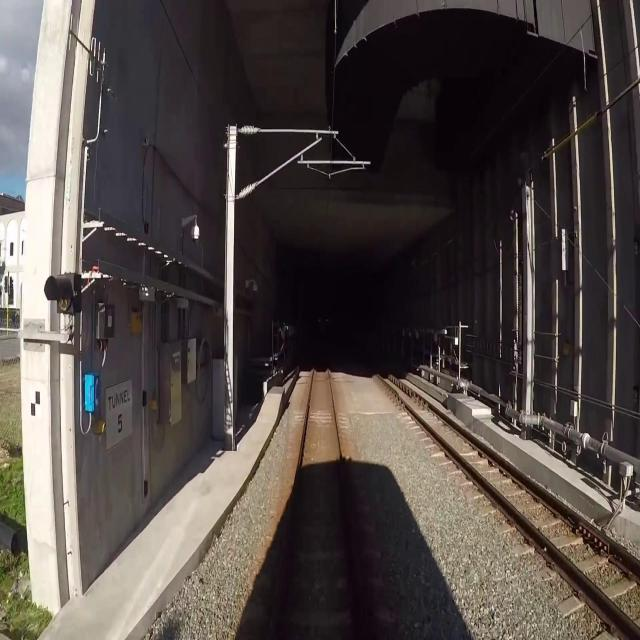rail-track: (380, 369, 640, 628), (284, 361, 365, 639)
